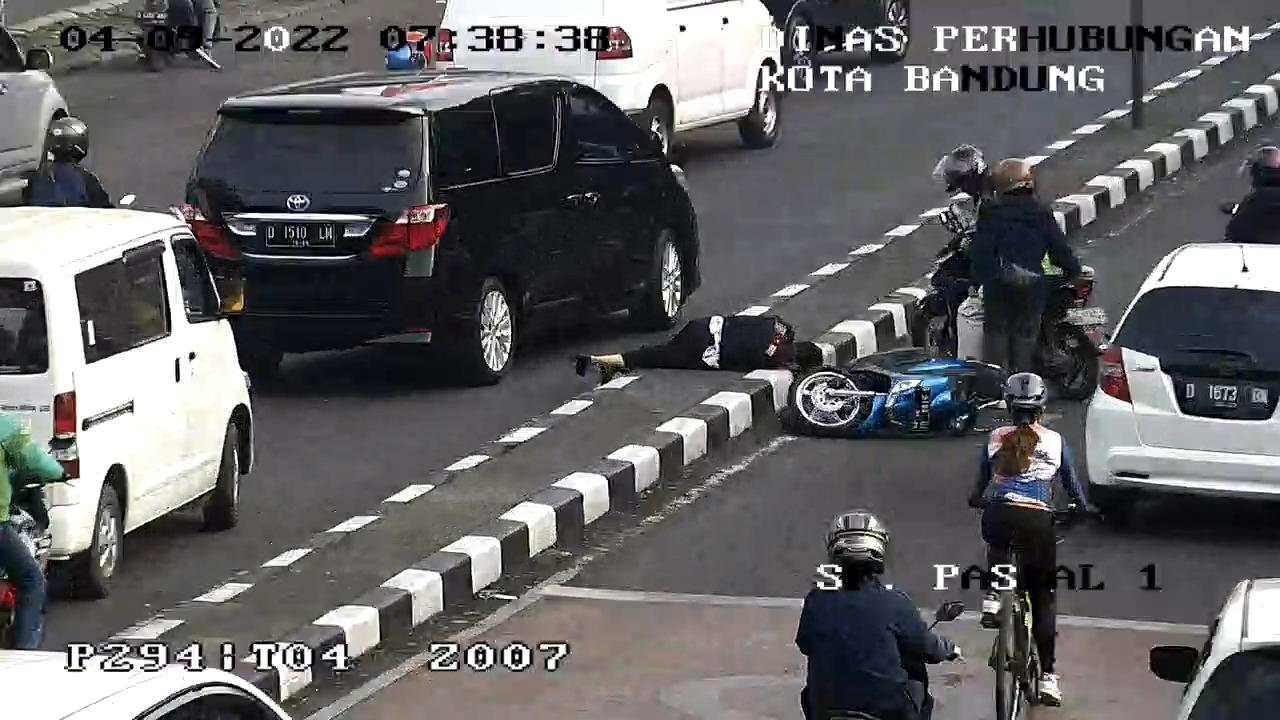accident: (551, 305, 837, 401)
